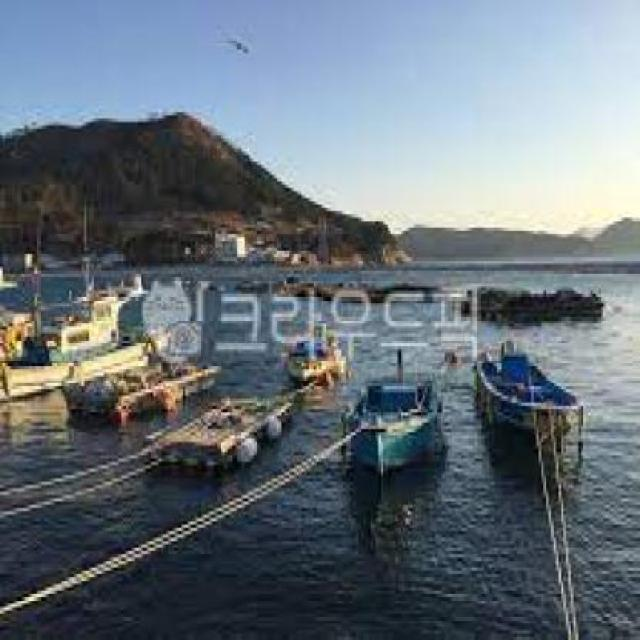fish-b: (1, 291, 159, 393), (342, 341, 451, 486), (63, 328, 226, 420), (473, 334, 592, 456)
